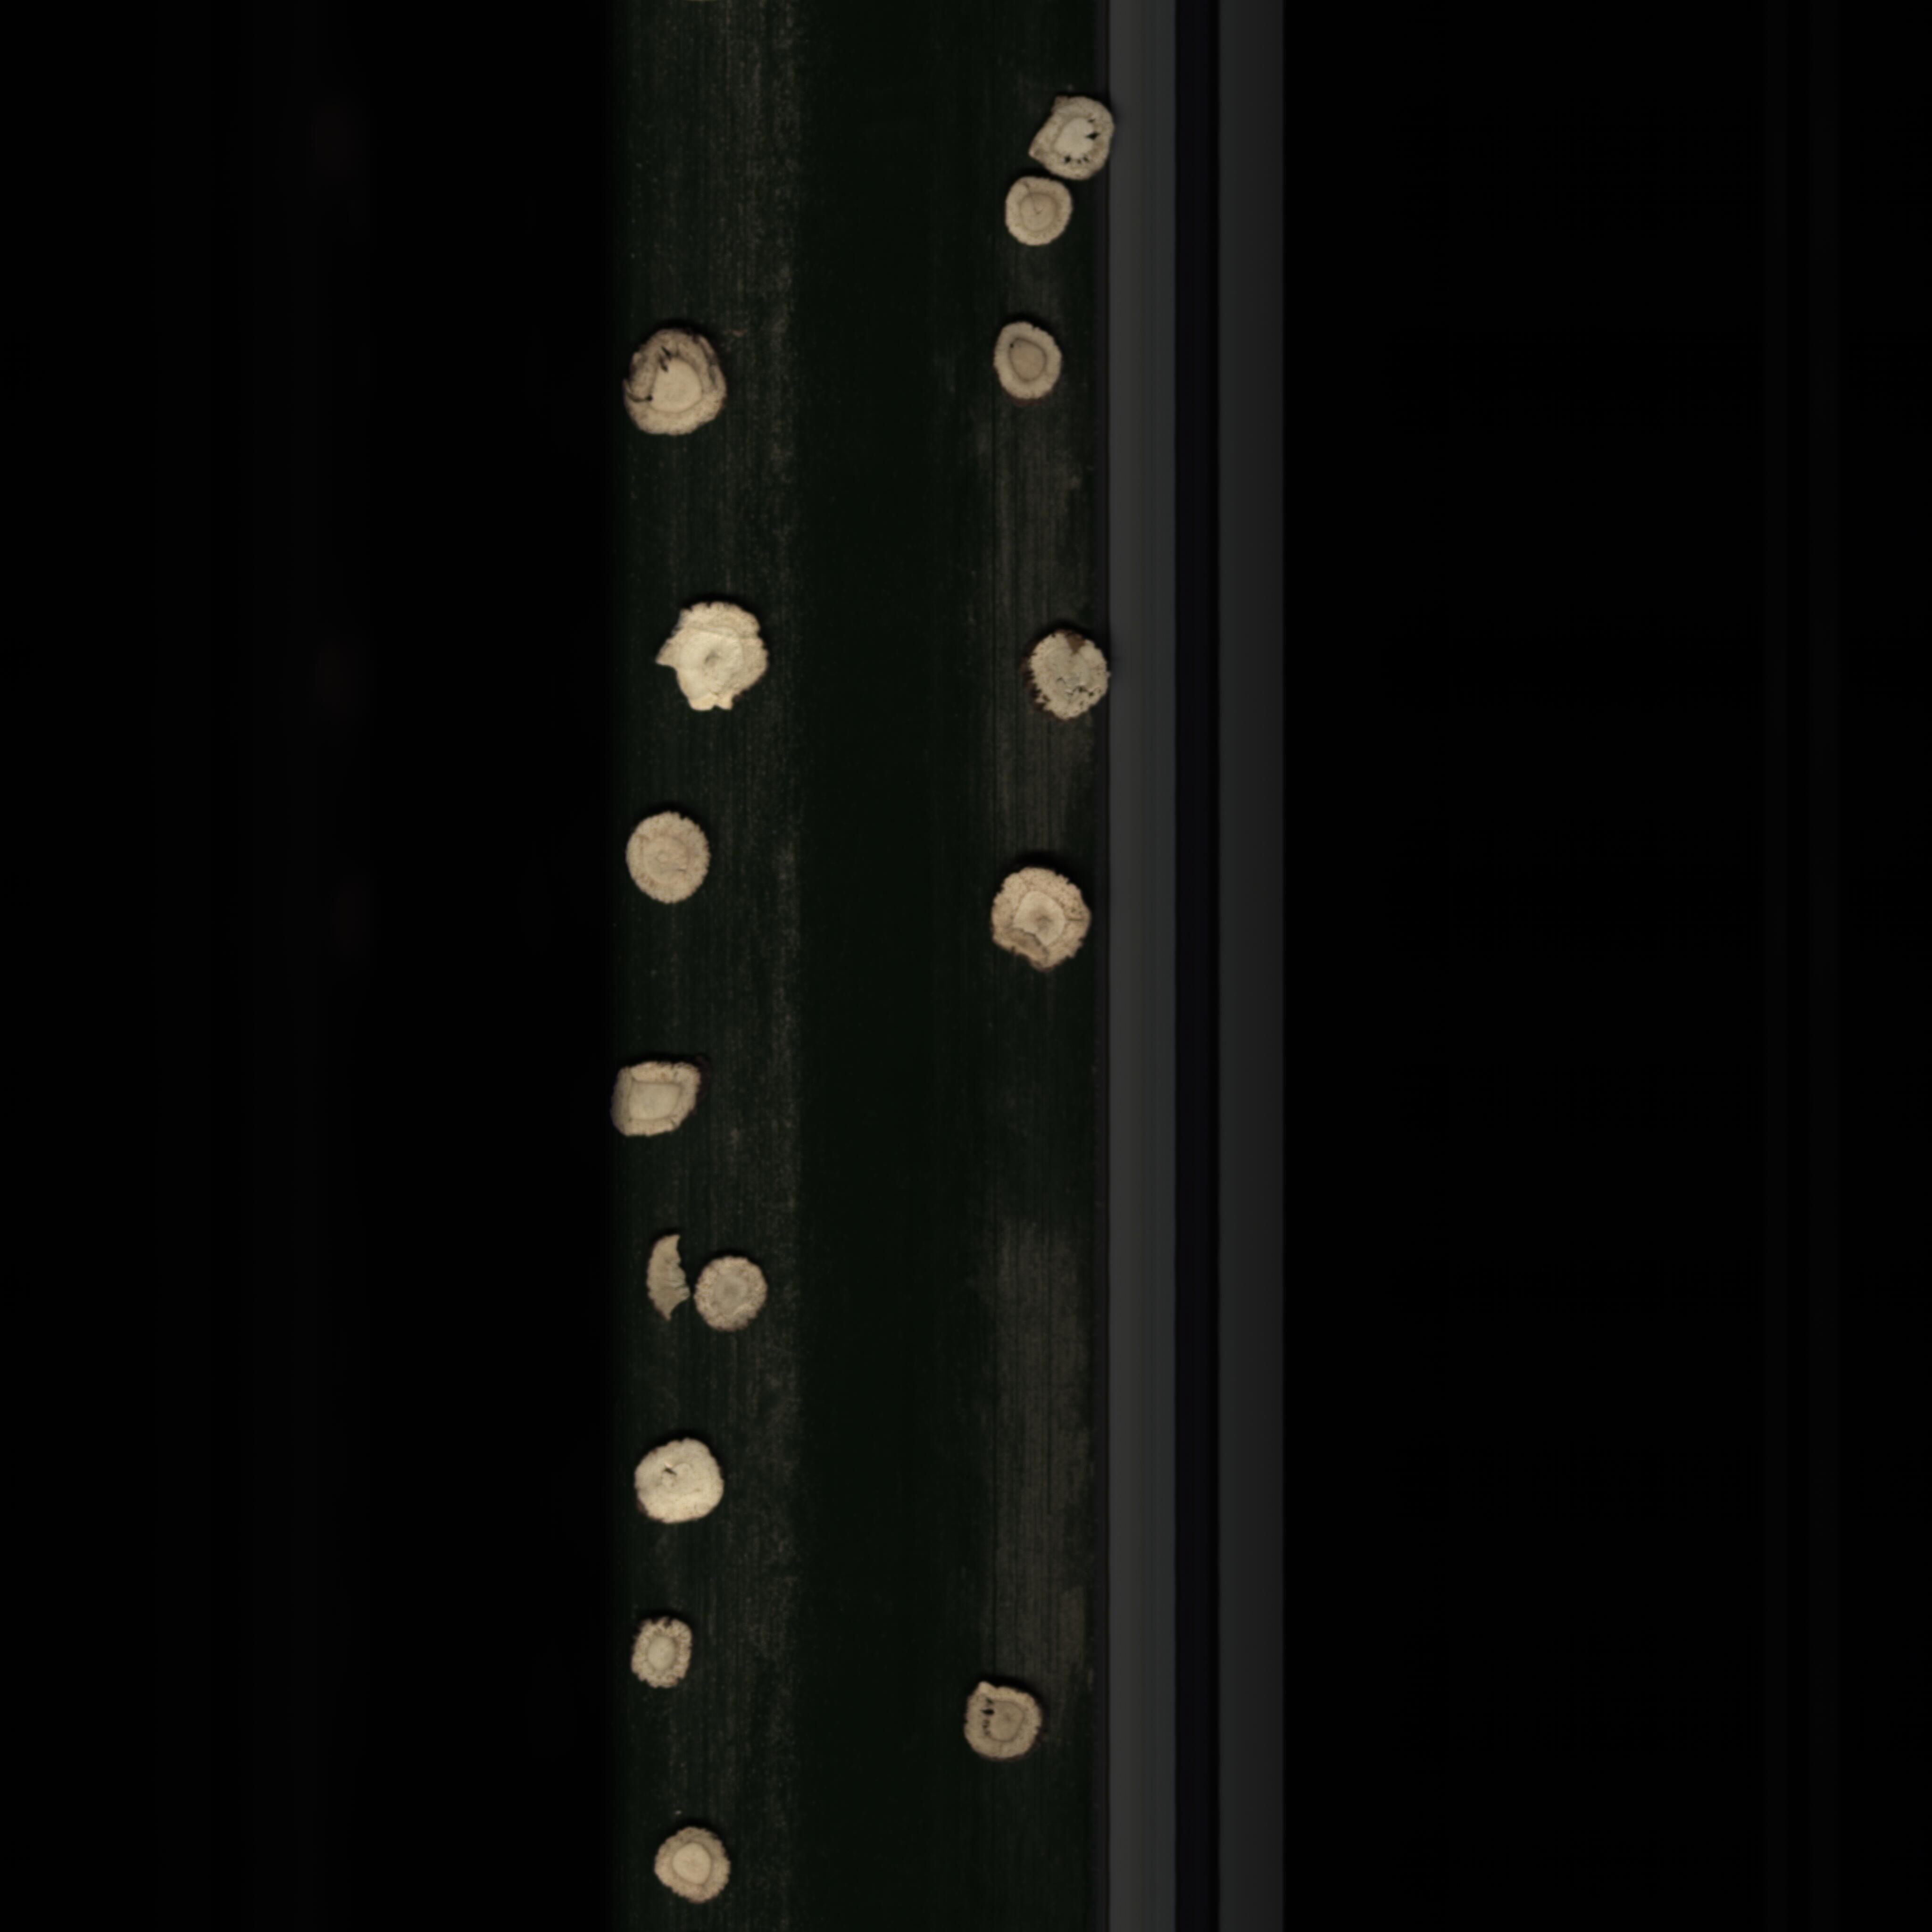debris: (642, 596, 780, 729), (642, 1233, 692, 1329)
hole: (605, 317, 740, 446), (1030, 88, 1120, 175), (959, 1674, 1044, 1766)
